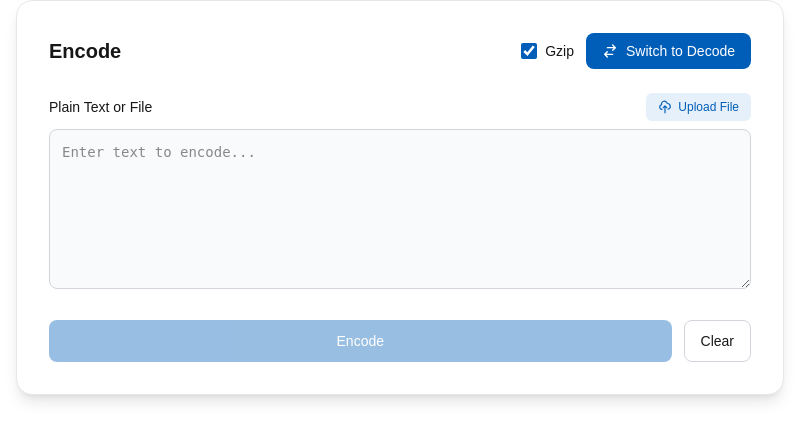
Test case: EncoderDecoder › toggles to decode mode
Click the button "Switch to Decode" at (668, 51), box 586,33 -> 751,69
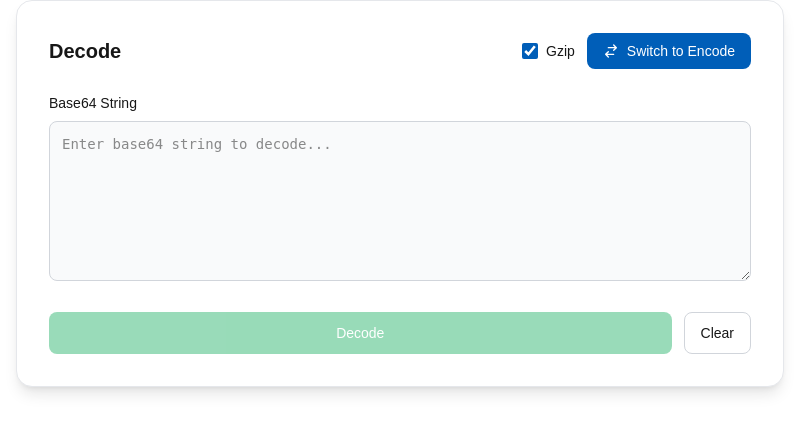
Result: the text box with placeholder "Enter base64 string to decode..." is shown at 49,121 -> 751,281
